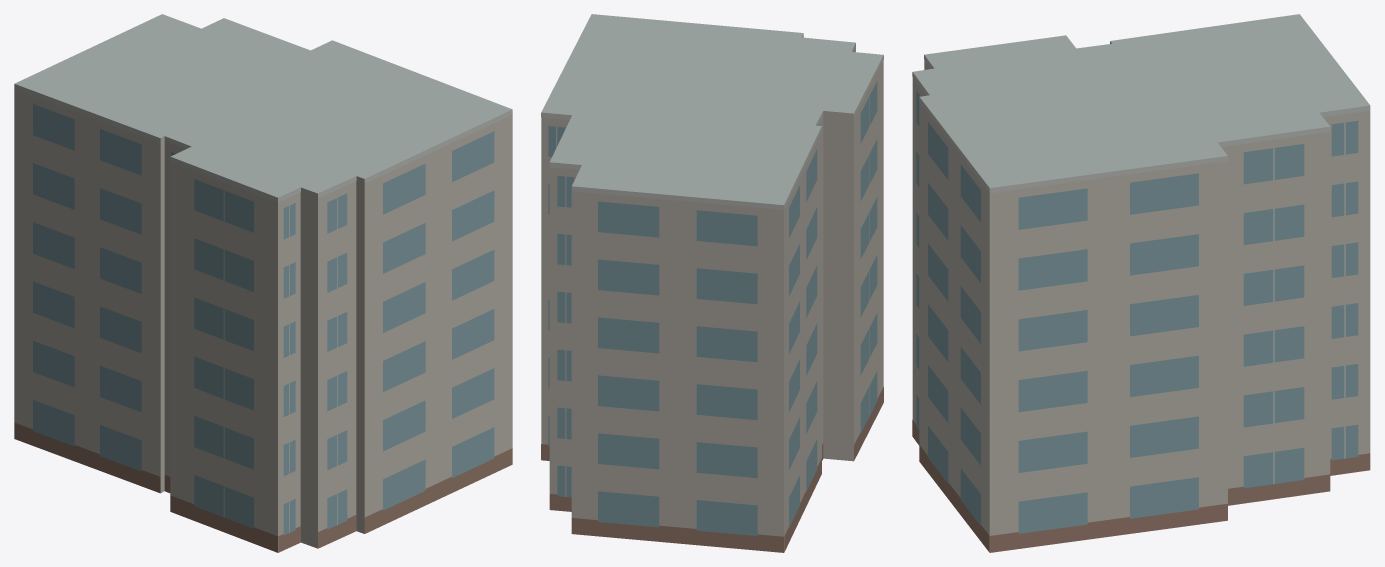
Rendered from survey-upis-32656050.glb.
The picture shows the model from 3 angles, left to right: view 1: azimuth 30°, elevation 25°; view 2: azimuth 150°, elevation 25°; view 3: azimuth 270°, elevation 25°; orthographic projection. The views are drawn at different scales.
Parts seen in each view (by area): view 1: survey-upis-32656050.tmp; view 2: survey-upis-32656050.tmp; view 3: survey-upis-32656050.tmp.
Part boxes in pixels (<box>): survey-upis-32656050.tmp: <box>14,14,512,552</box>; survey-upis-32656050.tmp: <box>541,14,883,552</box>; survey-upis-32656050.tmp: <box>912,14,1370,552</box>.
Bounding box in the file's own units: 17.73 × 17.3 × 19.69.
